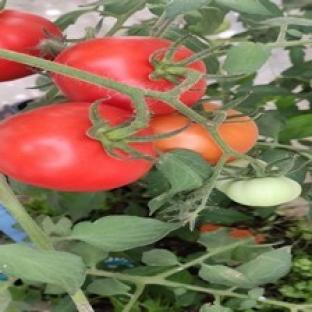Tomato: (0, 102, 153, 192), (55, 37, 175, 91), (0, 10, 62, 58), (156, 123, 222, 164), (221, 176, 302, 206), (200, 223, 264, 243)
